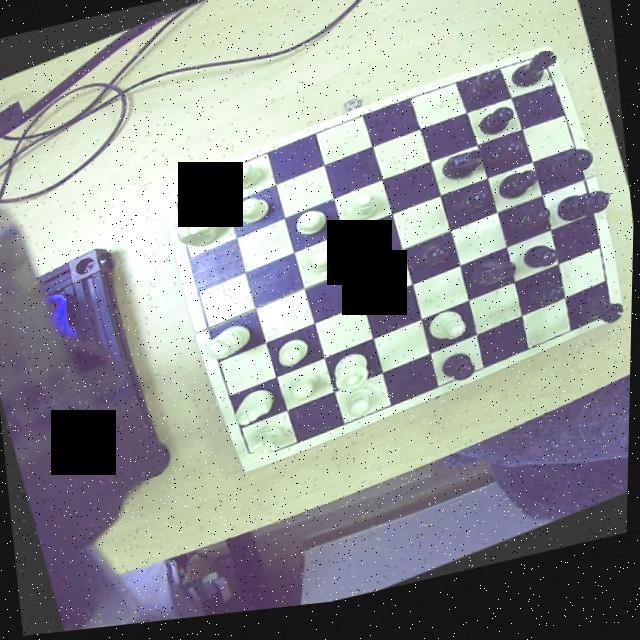chess-table-corners: (165, 183, 195, 213), (240, 446, 268, 476), (594, 314, 626, 339), (531, 57, 557, 83)
